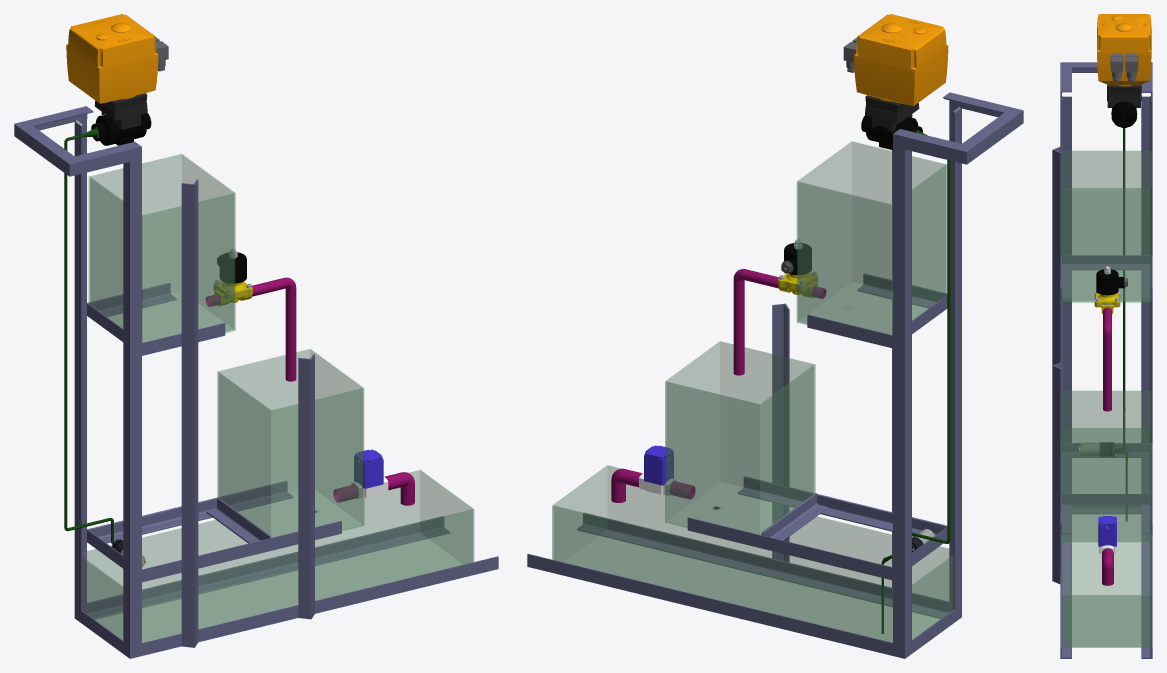
The model's file is nuevomodeladocuerpo.glb.
The picture shows the model from 3 angles, left to right: view 1: azimuth 30°, elevation 25°; view 2: azimuth 150°, elevation 25°; view 3: azimuth 270°, elevation 25°; orthographic projection. The views are drawn at different scales.
Visible parts, largest first — view 1: Reserva.Interno, Reserva.Externo, Tanque2.Externo, Tanque2.Interno, Soporte.001, Tanque1.Externo, Tanque1.Interno, Soporte.002, Valvula_winner, Soporte.006, Soporte.004, Soporte.007 (+7 smaller); view 2: Reserva.Interno, Reserva.Externo, Tanque2.Externo, Tanque2.Interno, Tanque1.Externo, Tanque1.Interno, Soporte.001, Soporte.002, Valvula_winner, Soporte.004, Soporte.007, Soporte.005 (+6 smaller); view 3: Tanque2.Externo, Tanque1.Externo, Tanque2.Interno, Tanque1.Interno, Reserva.Interno, Reserva.Externo, Soporte.001, Valvula_winner, Soporte.002, Soporte.004, Soporte.007, Soporte.006 (+8 smaller).
Part boxes in pixels (bbox=[...]): Reserva.Interno: bbox=[82, 470, 472, 642]; Reserva.Externo: bbox=[83, 470, 473, 642]; Tanque2.Externo: bbox=[217, 349, 363, 537]; Tanque2.Interno: bbox=[218, 349, 362, 537]; Soporte.001: bbox=[14, 106, 141, 658]; Tanque1.Externo: bbox=[89, 154, 235, 342]; Tanque1.Interno: bbox=[90, 154, 234, 342]; Soporte.002: bbox=[75, 516, 498, 658]; Valvula_winner: bbox=[66, 14, 168, 145]; Soporte.006: bbox=[181, 179, 198, 647]; Soporte.004: bbox=[87, 481, 341, 582]; Soporte.007: bbox=[298, 354, 314, 619]; Reserva.Interno: bbox=[553, 465, 953, 642]; Reserva.Externo: bbox=[552, 466, 953, 642]; Tanque2.Externo: bbox=[665, 342, 815, 534]; Tanque2.Interno: bbox=[666, 341, 814, 534]; Tanque1.Externo: bbox=[797, 142, 946, 334]; Tanque1.Interno: bbox=[797, 141, 946, 334]; Soporte.001: bbox=[893, 92, 1023, 658]; Soporte.002: bbox=[527, 512, 961, 658]; Valvula_winner: bbox=[843, 14, 948, 150]; Soporte.004: bbox=[687, 476, 947, 580]; Soporte.007: bbox=[772, 303, 789, 562]; Soporte.005: bbox=[807, 273, 947, 348]; Tanque2.Externo: bbox=[1062, 391, 1150, 541]; Tanque1.Externo: bbox=[1062, 151, 1150, 302]; Tanque2.Interno: bbox=[1062, 391, 1150, 540]; Tanque1.Interno: bbox=[1062, 151, 1150, 300]; Reserva.Interno: bbox=[1062, 542, 1150, 646]; Reserva.Externo: bbox=[1062, 542, 1150, 647]; Soporte.001: bbox=[1060, 62, 1152, 442]; Valvula_winner: bbox=[1097, 14, 1151, 127]; Soporte.002: bbox=[1060, 505, 1152, 658]; Soporte.004: bbox=[1060, 443, 1152, 534]; Soporte.007: bbox=[1052, 362, 1061, 583]; Soporte.006: bbox=[1052, 146, 1061, 365].
Size of the model in its own units: 36.24 by 48.33 by 8.82.
